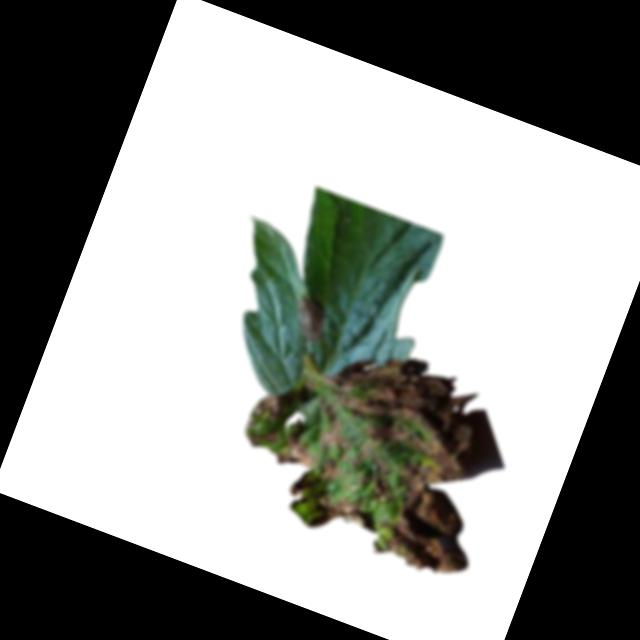Early_blight: (219, 319, 526, 586), (286, 290, 335, 343)
